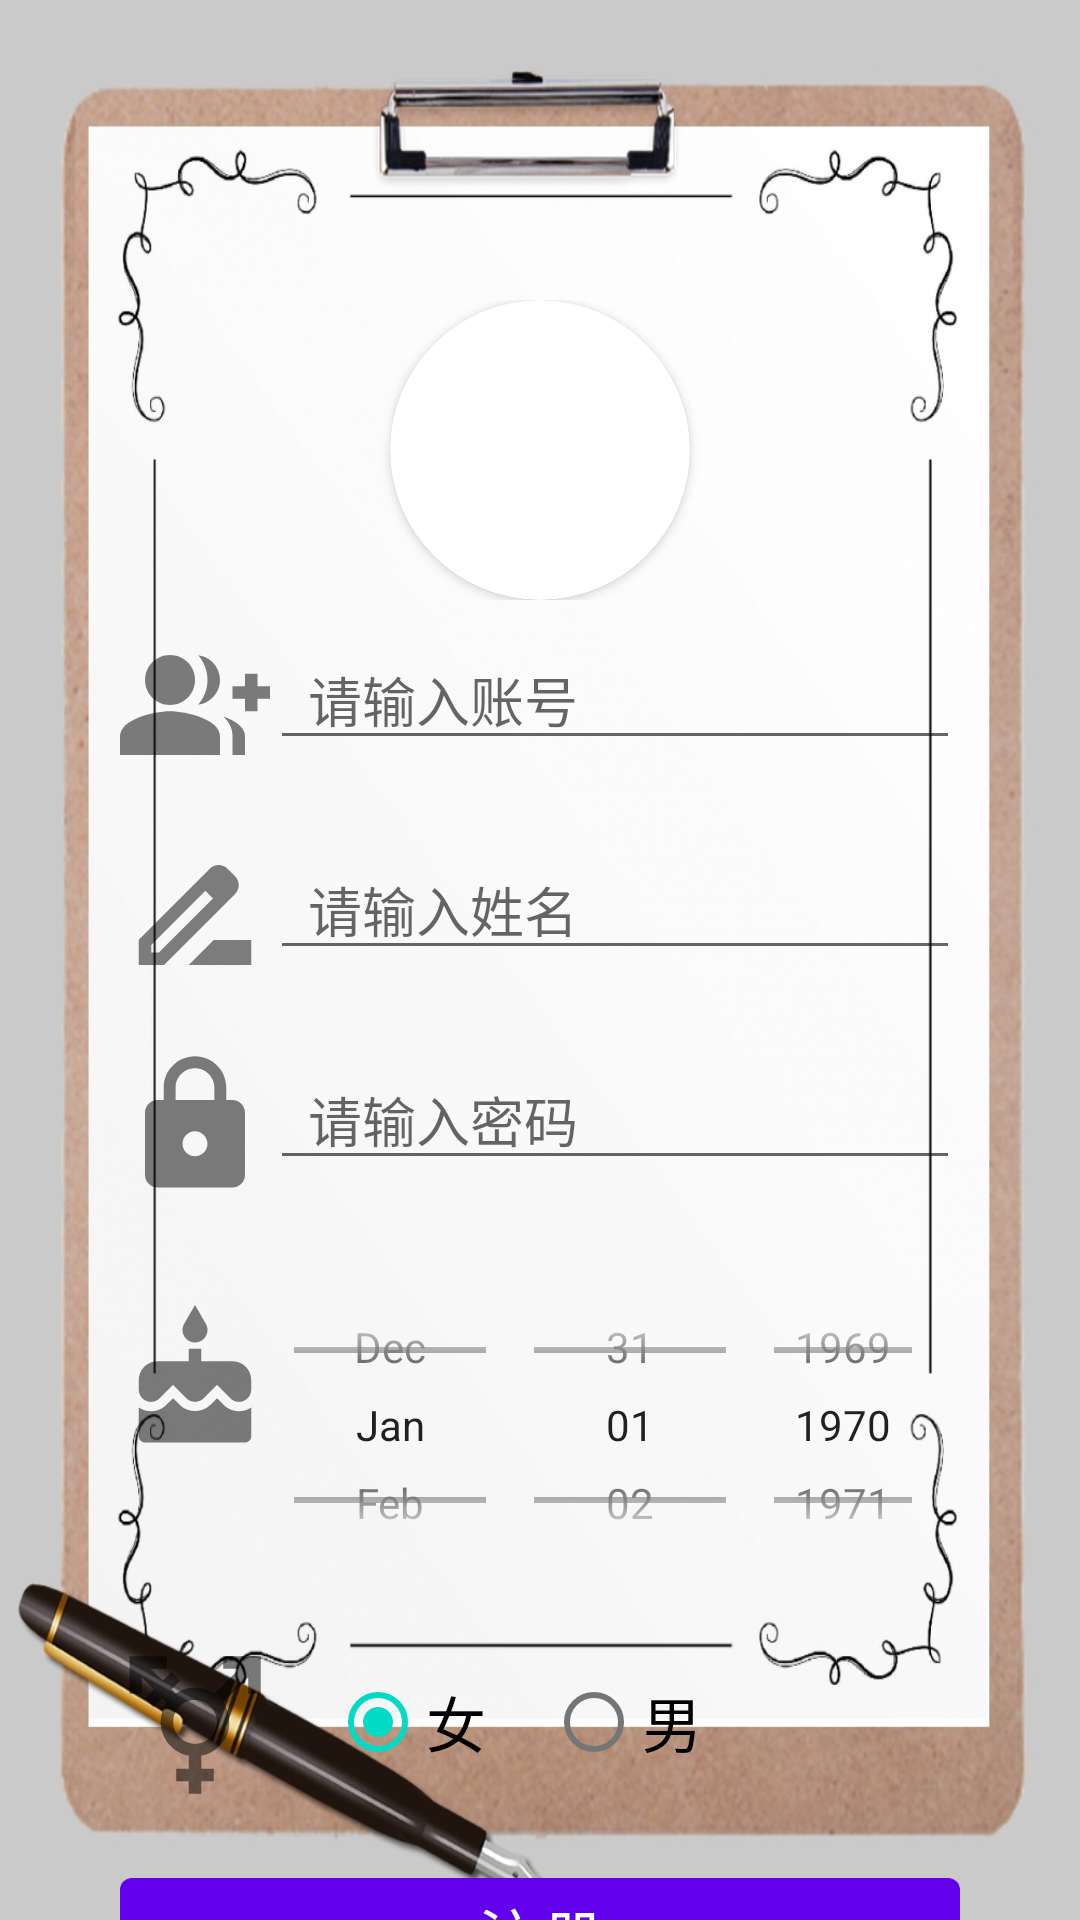

Where icons sit on this 1080w x 1920h app screen, as box=[x1, y1, x2, y2]:
birthdate: box=[131, 1260, 252, 1500]
password: box=[145, 1050, 245, 1200]
username: box=[120, 630, 270, 780]
